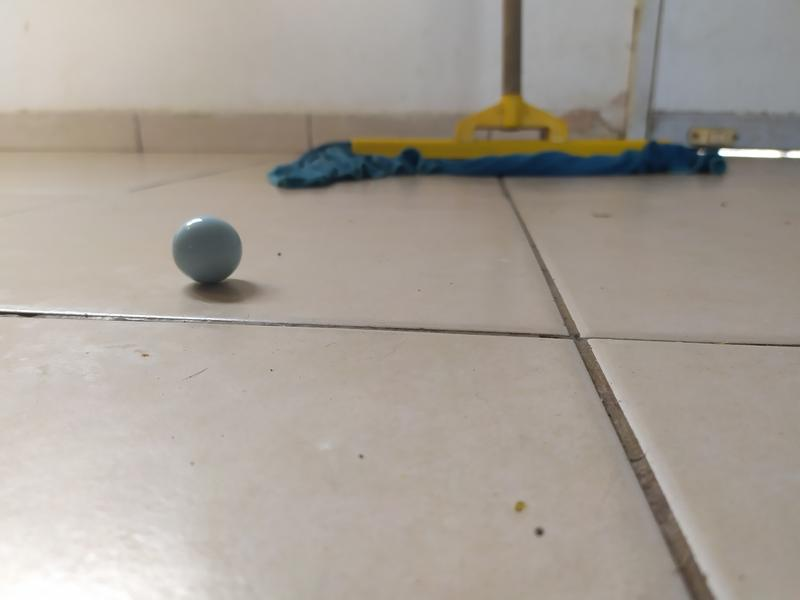Warning: (168, 212, 247, 287)
